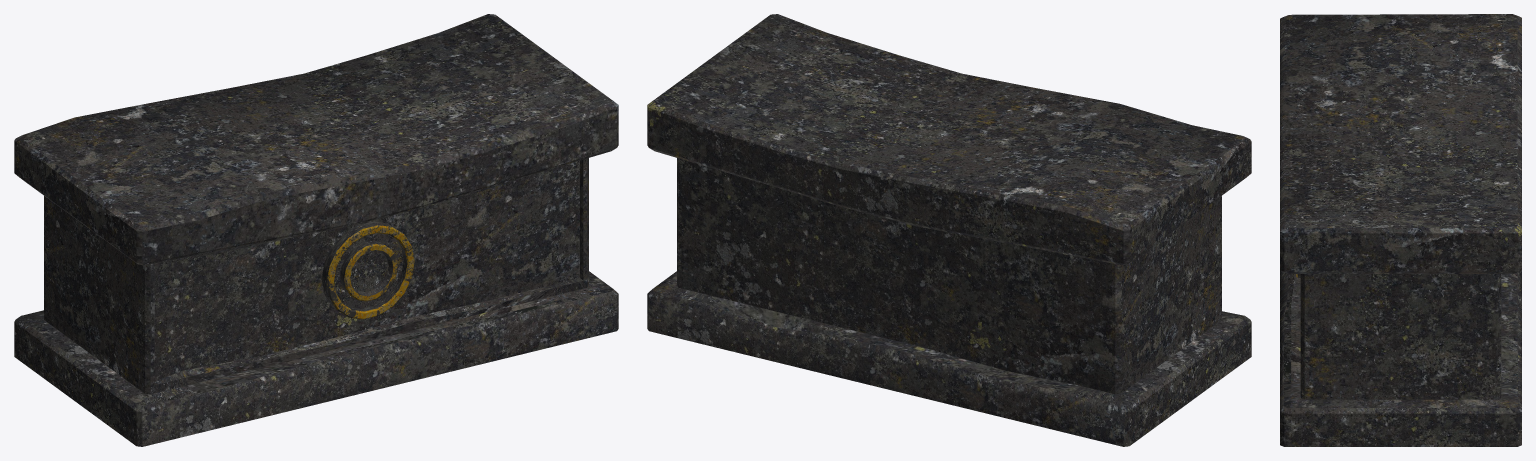
File: altar_ruins_altar.glb
The picture shows the model from 3 angles, left to right: view 1: azimuth 30°, elevation 25°; view 2: azimuth 150°, elevation 25°; view 3: azimuth 270°, elevation 25°; orthographic projection. The views are drawn at different scales.
Parts seen in each view (by area): view 1: altar_ruins_altar; view 2: altar_ruins_altar; view 3: altar_ruins_altar.
Boxes of the visible parts, x1,y1,x2,y2 form: altar_ruins_altar: [14, 14, 618, 446]; altar_ruins_altar: [647, 14, 1251, 446]; altar_ruins_altar: [1280, 14, 1521, 446].
Size of the model in its own units: 2.1 by 0.946 by 0.9547.
1 material, 1 textured.
